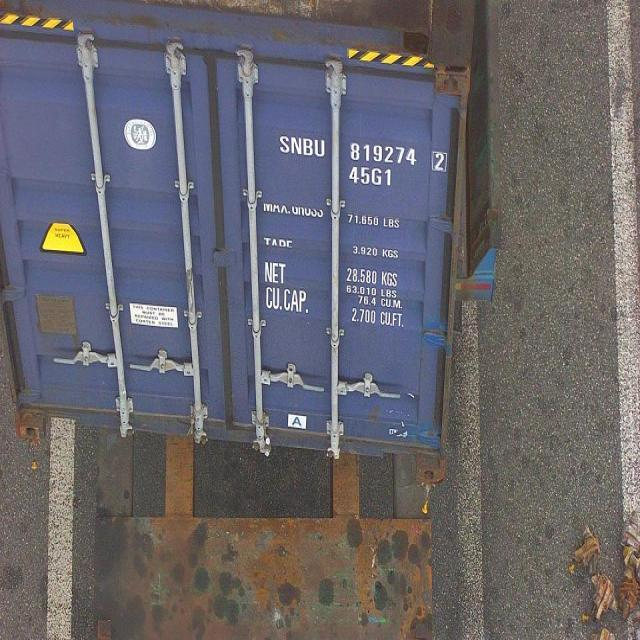ISO: (350, 166, 394, 186)
container_number: (286, 142, 448, 166)
